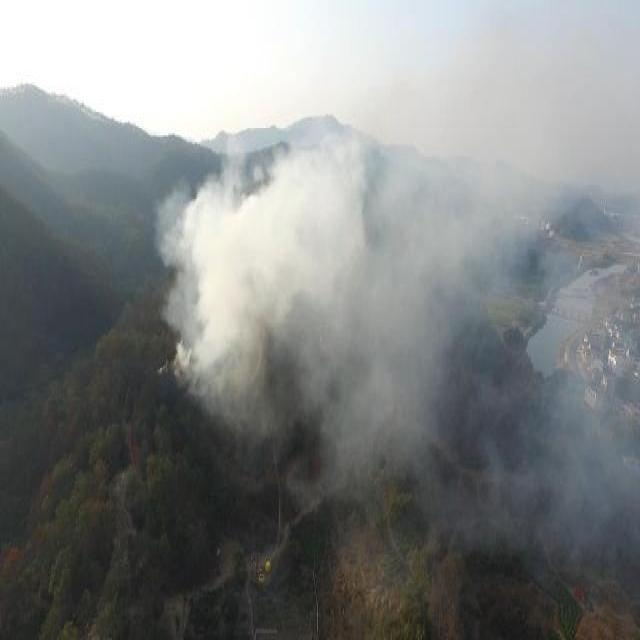Smoke: (152, 19, 640, 569)
